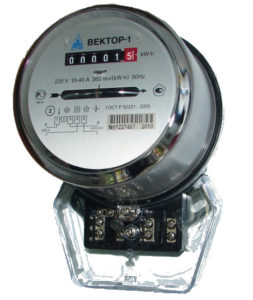counter: (10, 1, 227, 295)
counter_screen: (63, 46, 140, 66)
